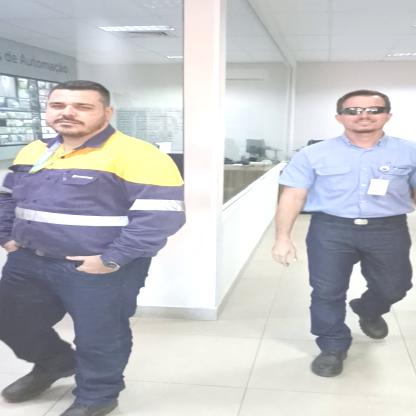Operacional: (5, 132, 172, 267)
